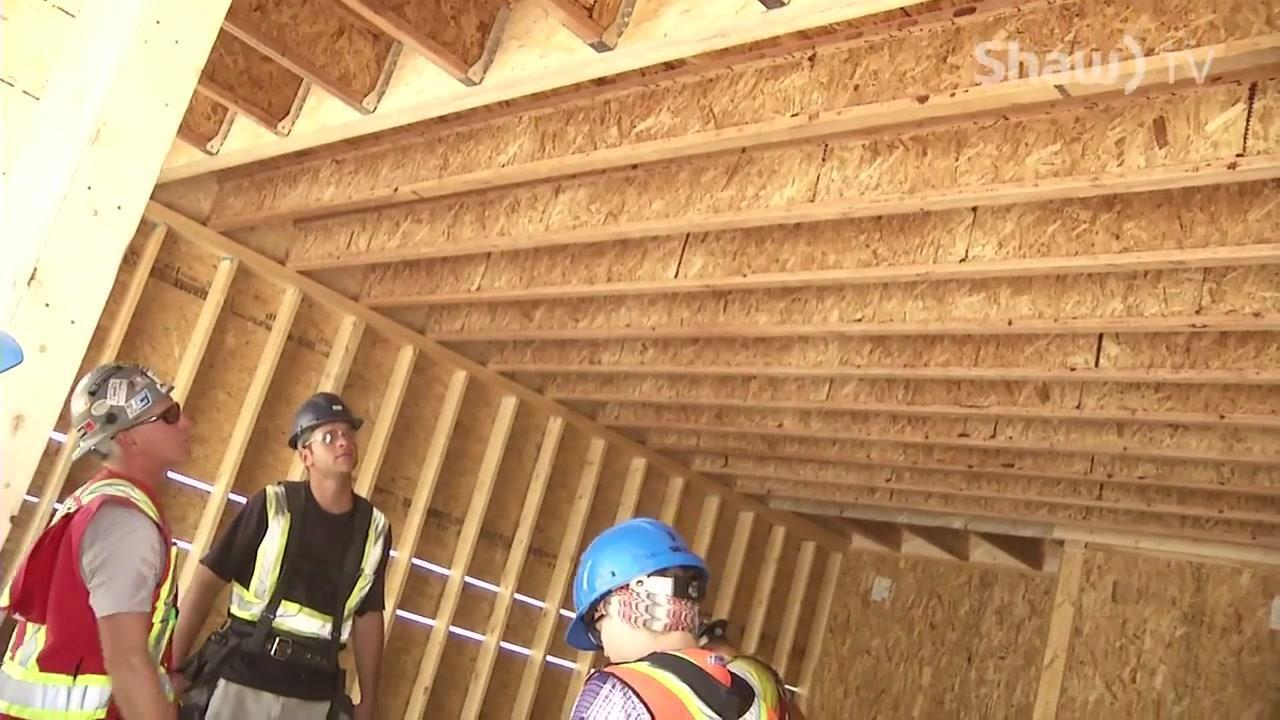vest: (0, 475, 181, 719), (223, 478, 389, 648), (592, 653, 791, 719)
